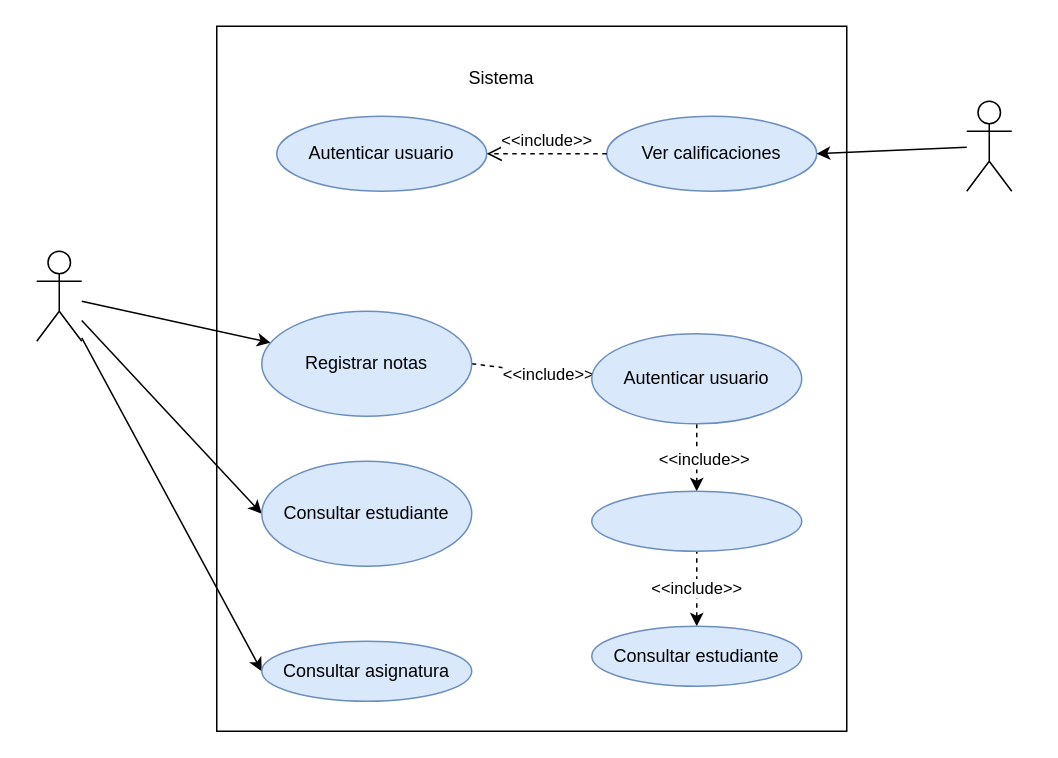
This 1058x758 diagram has some shape labels left out. The shapes that lost their labels are listed below. From the top down, each one's centre as x and y in pixels, then its label:
At pixel 988 145: "Estudiante".
At pixel 58 295: "Profesor".
At pixel 696 520: "Validar usuario".
